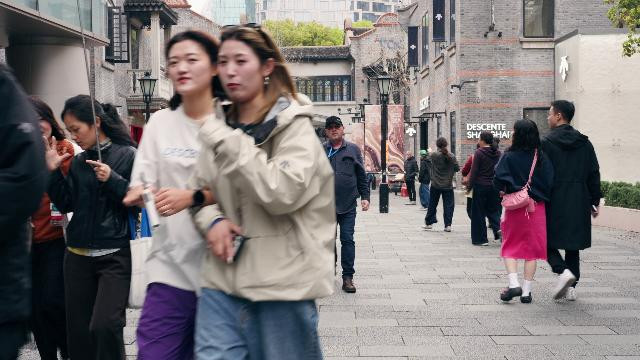person: (189, 23, 337, 360), (123, 29, 226, 360), (44, 94, 139, 360), (540, 100, 604, 301), (492, 119, 556, 304), (319, 116, 372, 293), (464, 130, 503, 246), (421, 137, 459, 232), (460, 140, 477, 230), (417, 149, 433, 210), (403, 151, 420, 205)
